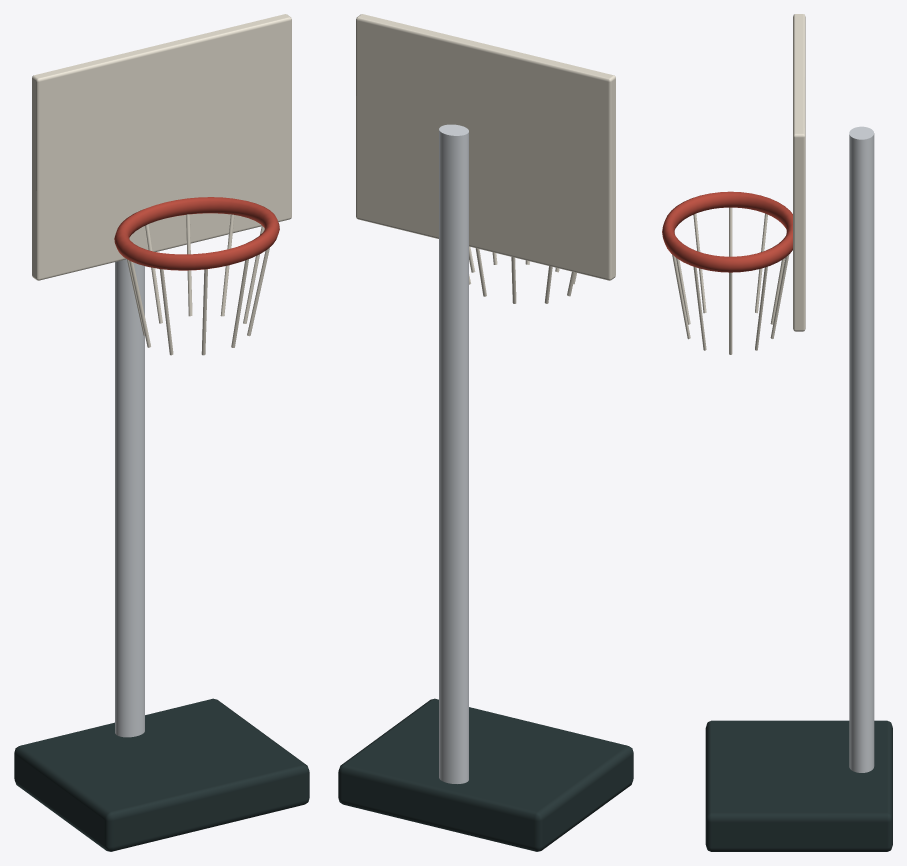
The model's file is wp-panier-de-basket.glb.
The picture shows the model from 3 angles, left to right: view 1: azimuth 30°, elevation 25°; view 2: azimuth 150°, elevation 25°; view 3: azimuth 270°, elevation 25°; orthographic projection. The views are drawn at different scales.
Visible parts, largest first — view 1: wp-panier-de-basket; view 2: wp-panier-de-basket; view 3: wp-panier-de-basket.
Boxes of the visible parts, box(x1,y1,x2,y2) form: wp-panier-de-basket: box(14, 14, 309, 851); wp-panier-de-basket: box(338, 14, 633, 851); wp-panier-de-basket: box(662, 14, 892, 851).
Bounding box in the file's own units: 1 × 2.8 × 0.8.
